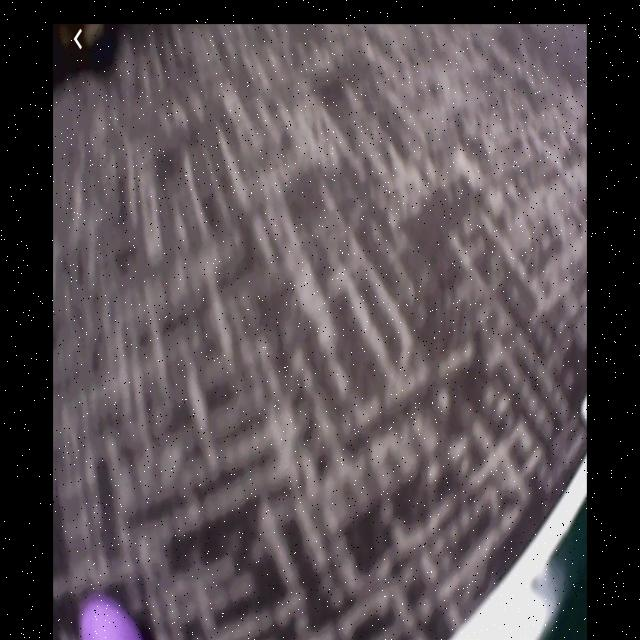ball: (79, 598, 145, 640)
